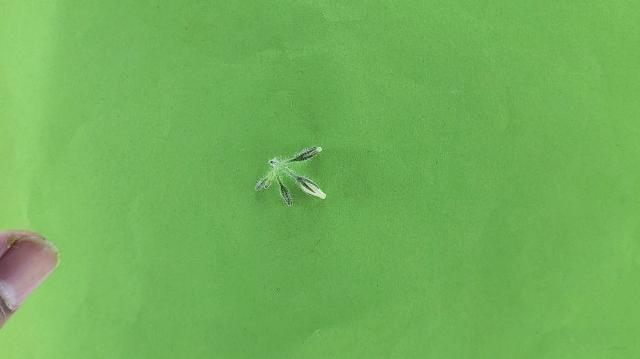Flower Bud: (290, 173, 327, 200), (287, 146, 322, 162), (278, 184, 294, 208), (279, 182, 292, 207), (255, 180, 264, 191)
